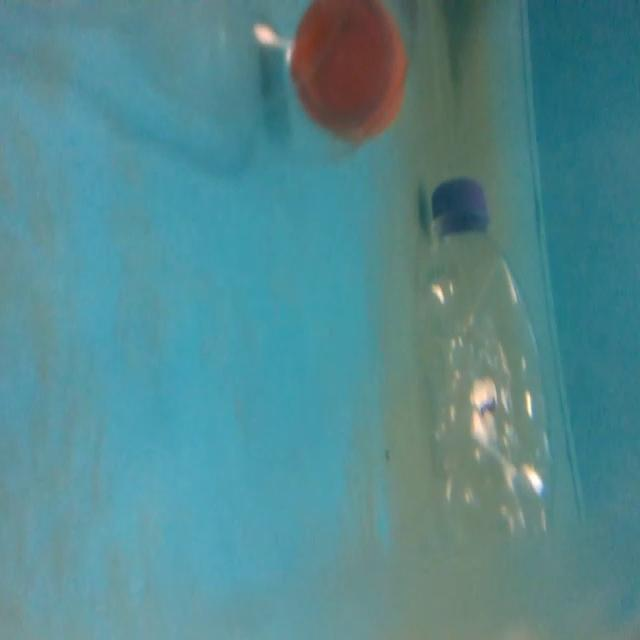plastic bottle: (408, 170, 557, 570)
